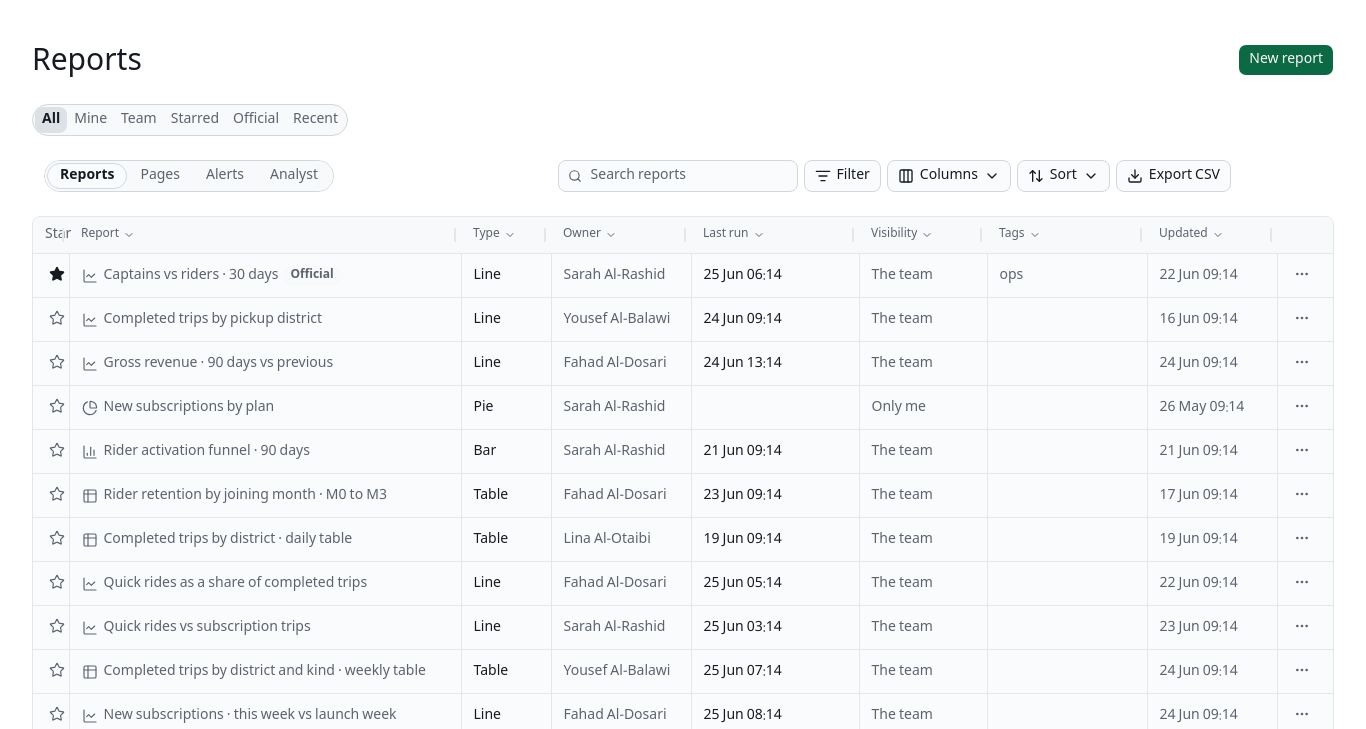
Test case: AC-1254 — `?view=analyst` renders the analyst index, not the old empty state › the Analyst tab is one of the four view tabs and switches to it
Click the tab "Analyst": (294, 176) top-left (257, 163), bottom-right (331, 189)
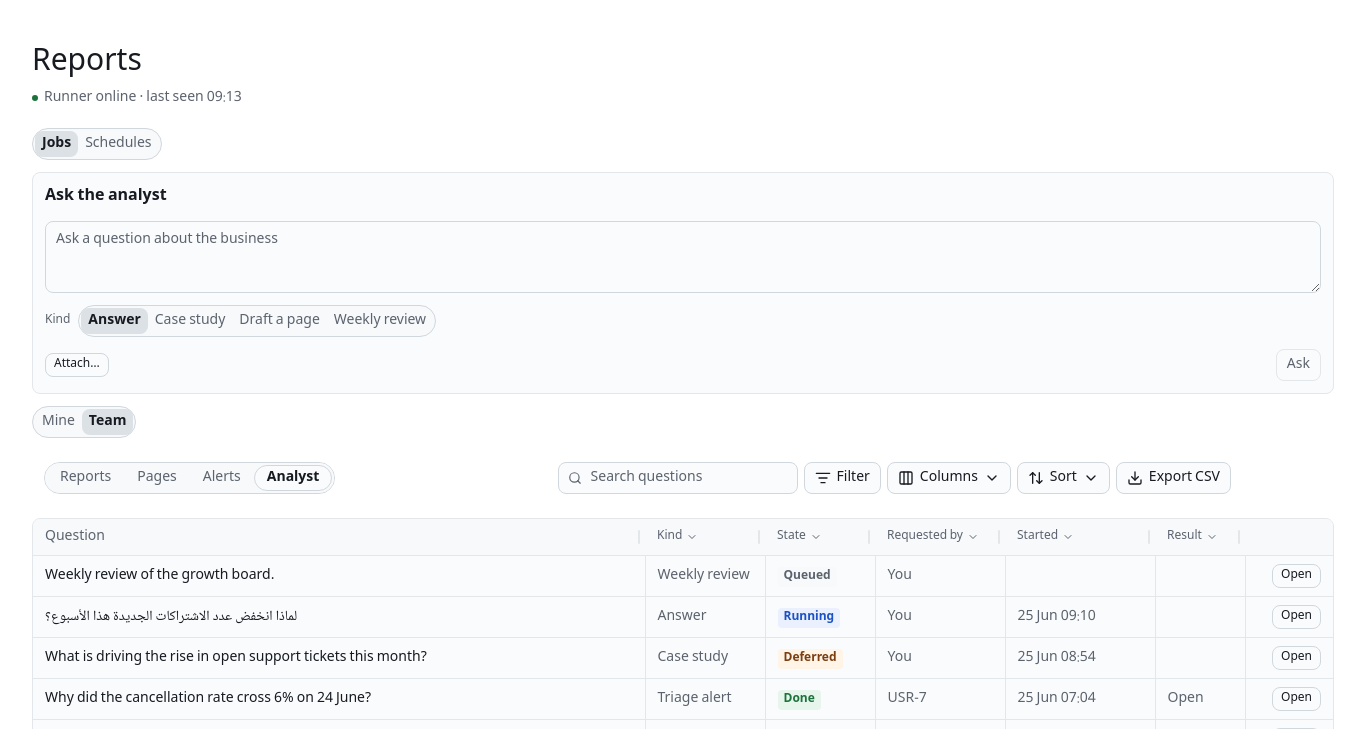
Now the text box labelled "question" is shown, box top-left (45, 221), bottom-right (1321, 293)
